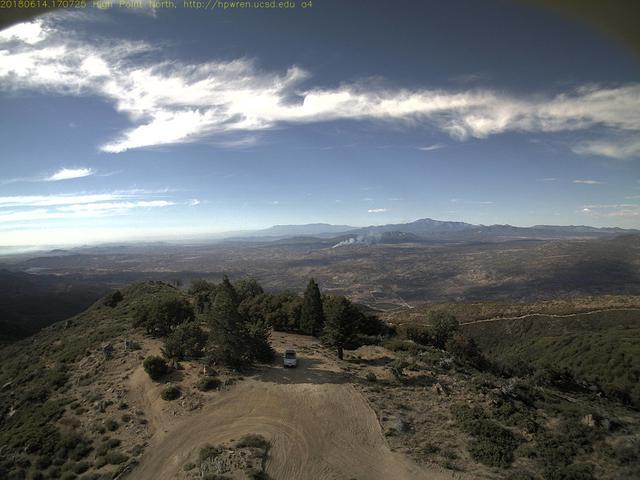smoke: (326, 223, 420, 253)
